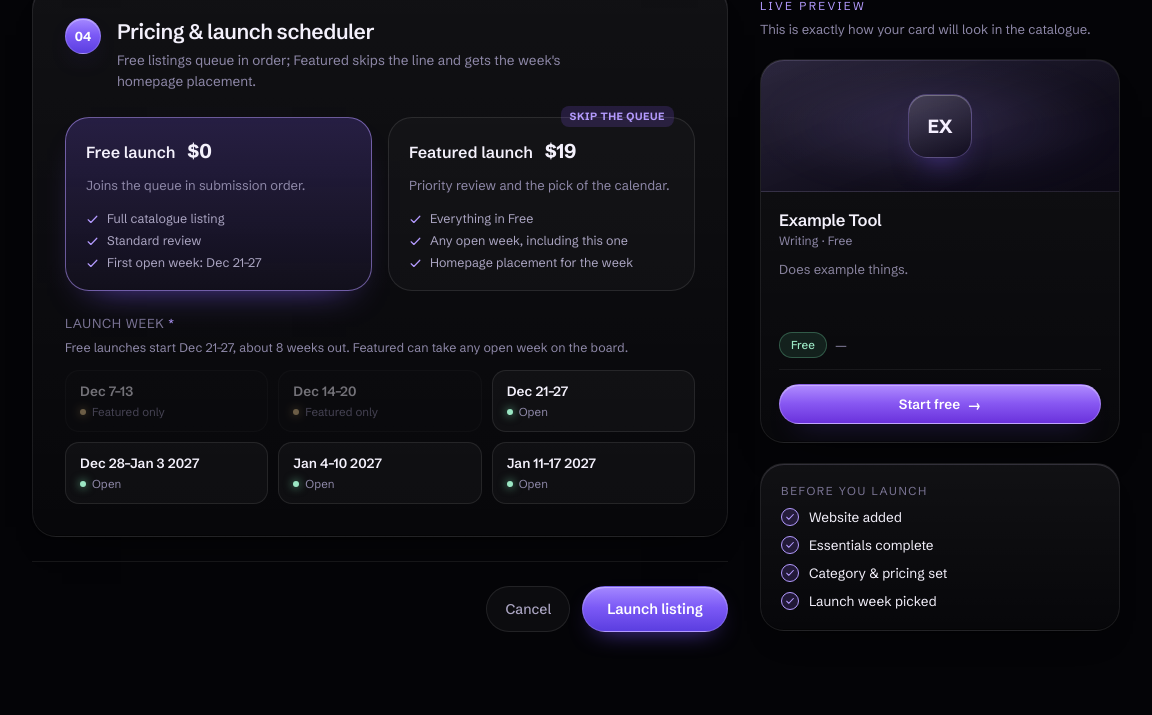
Test: SubmitPage with accounts › "Not now" closes the gate and returns to the listing
The image size is (1152, 715).
(page scrolled)
What coordinates should you click on to do the following:
click the button "Launch listing"
I would click on:
 (655, 609)
Its box is [582,586,728,632].
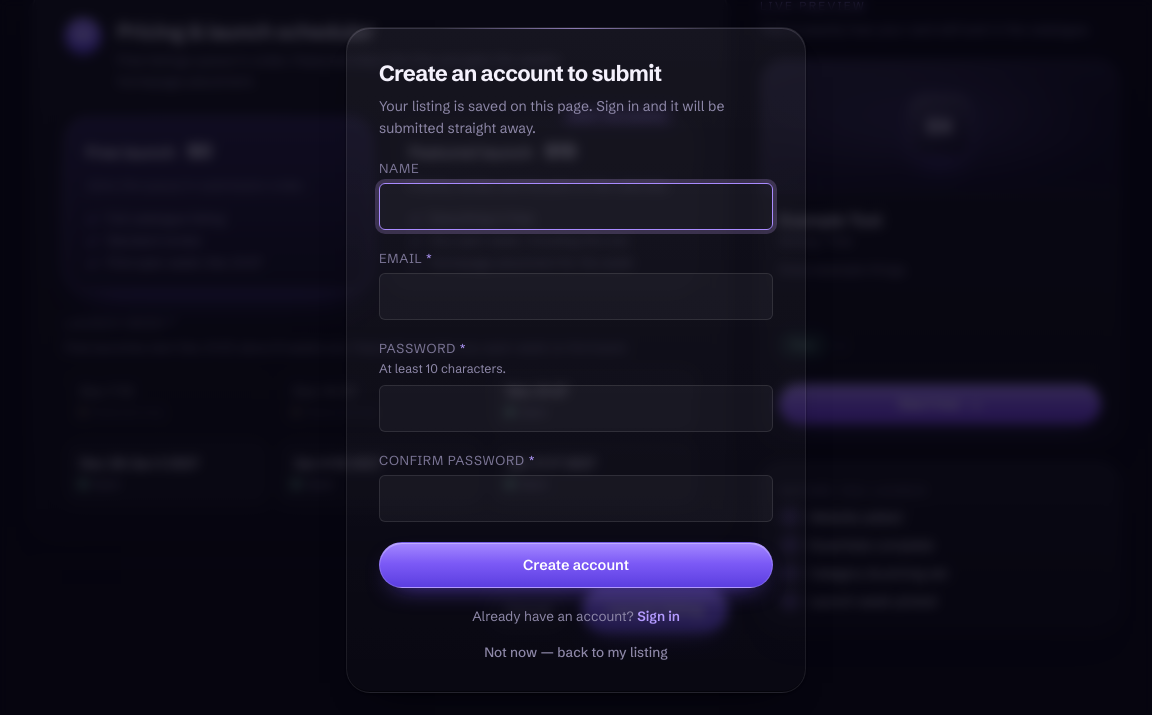
What coordinates should you click on to do the following:
click the button "Not now — back to my listing"
I would click on:
 (576, 652)
Its box is [484,644,668,660].
(page scrolled)
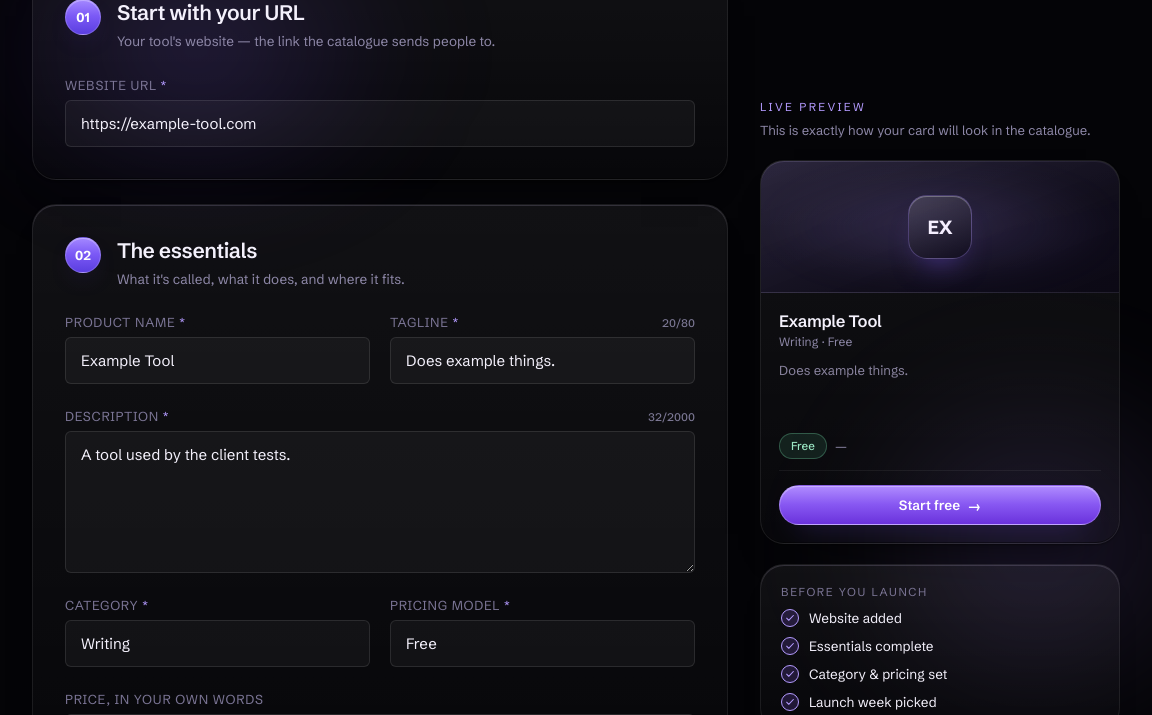
Expected: the field labelled "Product name *" holds "Example Tool", [65,337,370,384]
Expected: the dialog is gone
